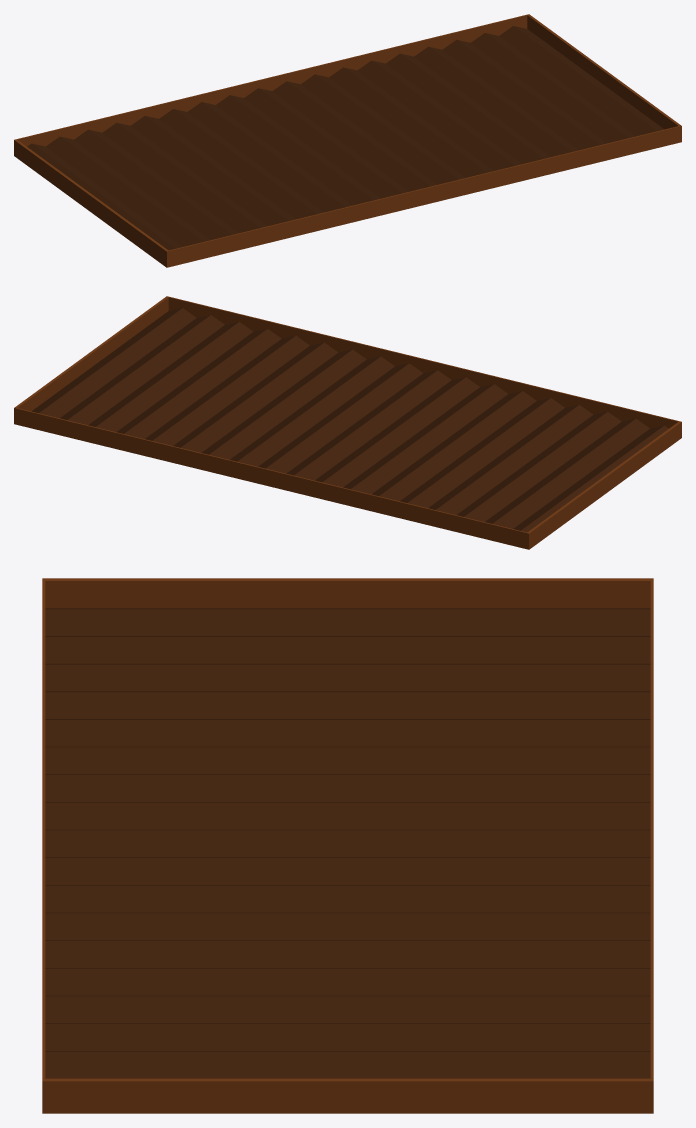
Rendered from Field.fbx.
3 views of the same model, one above another, from view 1: azimuth 30°, elevation 25°; view 2: azimuth 150°, elevation 25°; view 3: azimuth 270°, elevation 25° (orthographic). The views are drawn at different scales.
Visible parts, largest first — view 1: Field; view 2: Field; view 3: Field.
Part boxes in pixels (x1,y1,x2,y2): Field: (14,14,681,267); Field: (14,296,681,549); Field: (42,578,653,1113).
Bounding box in the file's own units: 4865 × 146 × 2500.
Materials: 1 (1 with a texture image).
